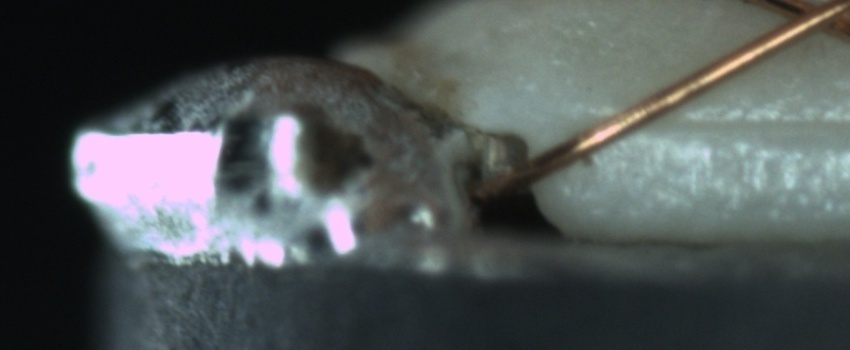CL: (762, 0, 848, 46)
DL: (619, 87, 846, 158)
